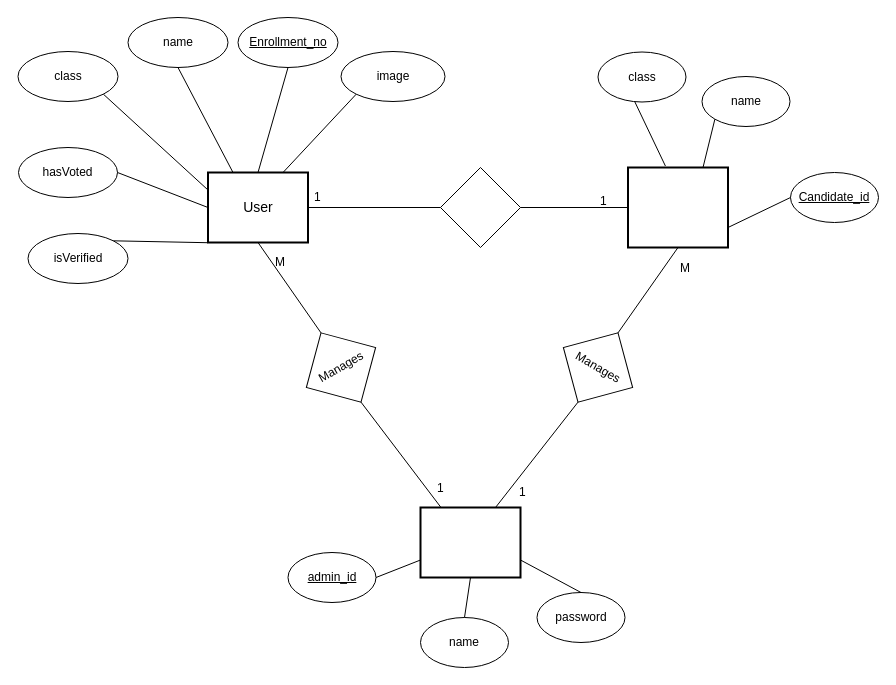
This 896x685 diagram has some shape labels left out. The shapes that lost their labels are listed below. From the top down, each one's centre as x and y in pixels, then its label:
At point 480,207: "Votes".
At point 677,207: "Candidate".
At point 470,542: "Admin".
